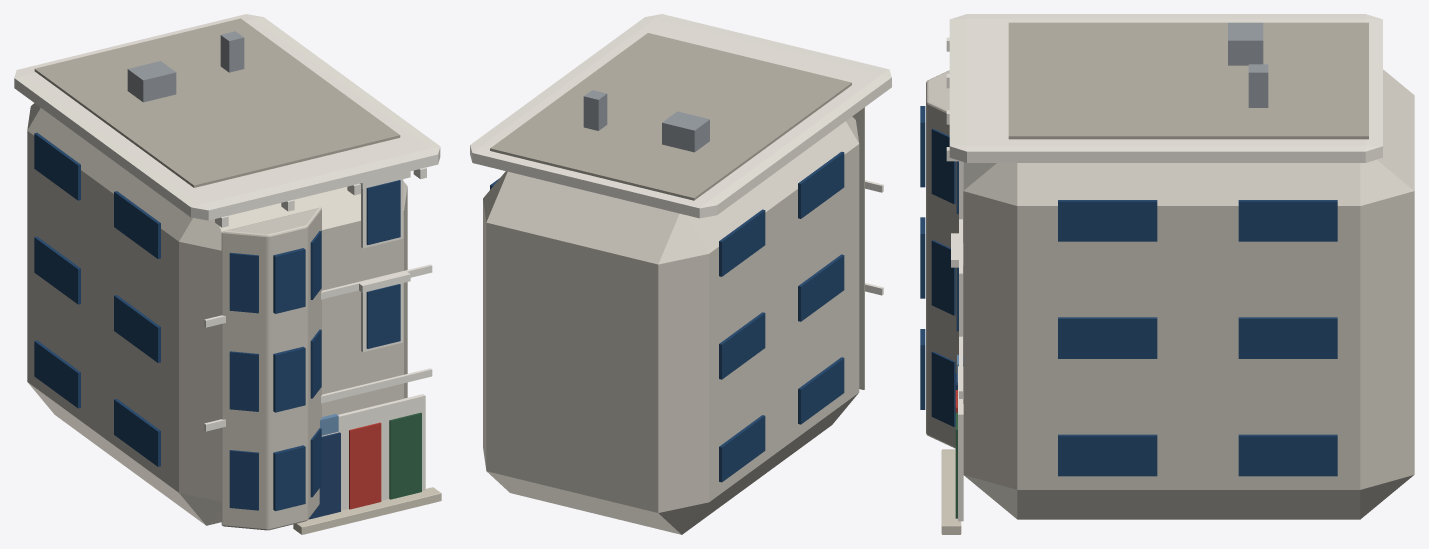
The model's file is edw_w7_f3.glb.
3 renders of one model, left to right at view 1: azimuth 30°, elevation 25°; view 2: azimuth 150°, elevation 25°; view 3: azimuth 270°, elevation 25°, orthographic. The views are drawn at different scales.
Visible parts, largest first — view 1: walls, roofslab, bay, corn, door.001, door.002, lstep, wgl.001, wgl, bw.001, bw, bw.002 (+22 smaller); view 2: walls, roofslab, corn, sb, sb.006, sb.010, sb.002, sb.004, sb.008, bay, hvac, pipe; view 3: walls, roofslab, corn, bay, sb.001, sb.003, sb.005, sb.007, sb.009, sb.011, bwa.001, bwa.003 (+5 smaller).
Part boxes in pixels (x1=…): walls: x1=27, y1=103, x2=407, y2=525; roofslab: x1=34, y1=18, x2=400, y2=187; bay: x1=221, y1=207, x2=321, y2=530; corn: x1=14, y1=14, x2=440, y2=220; door.001: x1=349, y1=422, x2=381, y2=509; door.002: x1=389, y1=412, x2=421, y2=499; lstep: x1=293, y1=487, x2=441, y2=534; wgl.001: x1=366, y1=180, x2=400, y2=244; wgl: x1=366, y1=284, x2=400, y2=348; bw.001: x1=273, y1=346, x2=305, y2=412; bw: x1=273, y1=445, x2=305, y2=511; bw.002: x1=273, y1=248, x2=305, y2=313; walls: x1=483, y1=116, x2=859, y2=534; roofslab: x1=490, y1=33, x2=851, y2=200; corn: x1=470, y1=14, x2=891, y2=218; sb: x1=798, y1=357, x2=844, y2=424; sb.006: x1=719, y1=312, x2=765, y2=379; sb.010: x1=719, y1=209, x2=765, y2=276; sb.002: x1=719, y1=415, x2=765, y2=482; sb.004: x1=798, y1=254, x2=844, y2=321; sb.008: x1=798, y1=151, x2=844, y2=218; bay: x1=852, y1=107, x2=864, y2=389; hvac: x1=662, y1=111, x2=709, y2=152; pipe: x1=583, y1=90, x2=607, y2=130; walls: x1=963, y1=69, x2=1414, y2=519; roofslab: x1=1008, y1=22, x2=1368, y2=139; corn: x1=949, y1=14, x2=1382, y2=162; bay: x1=926, y1=70, x2=963, y2=448; sb.001: x1=1058, y1=434, x2=1157, y2=476; sb.003: x1=1238, y1=434, x2=1337, y2=476; sb.005: x1=1058, y1=317, x2=1157, y2=358; sb.007: x1=1238, y1=317, x2=1337, y2=358; sb.009: x1=1058, y1=200, x2=1157, y2=241; sb.011: x1=1238, y1=200, x2=1337, y2=241; bwa.001: x1=931, y1=351, x2=955, y2=426; bwa.003: x1=931, y1=240, x2=955, y2=315.
Bounding box in the file's own units: 8.3 × 12.05 × 12.59.
